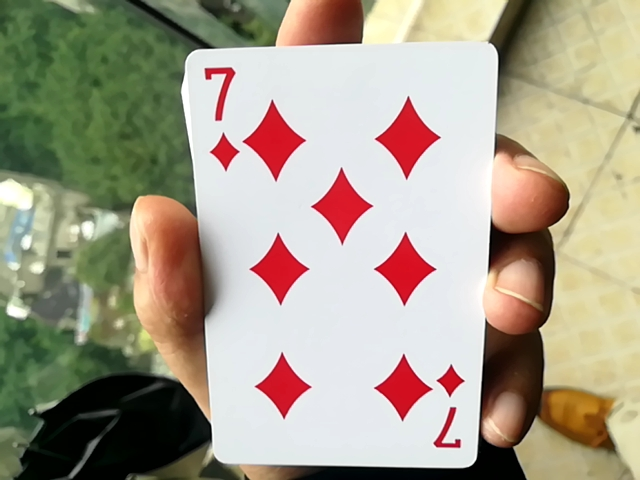fk 7: (170, 27, 500, 471)
